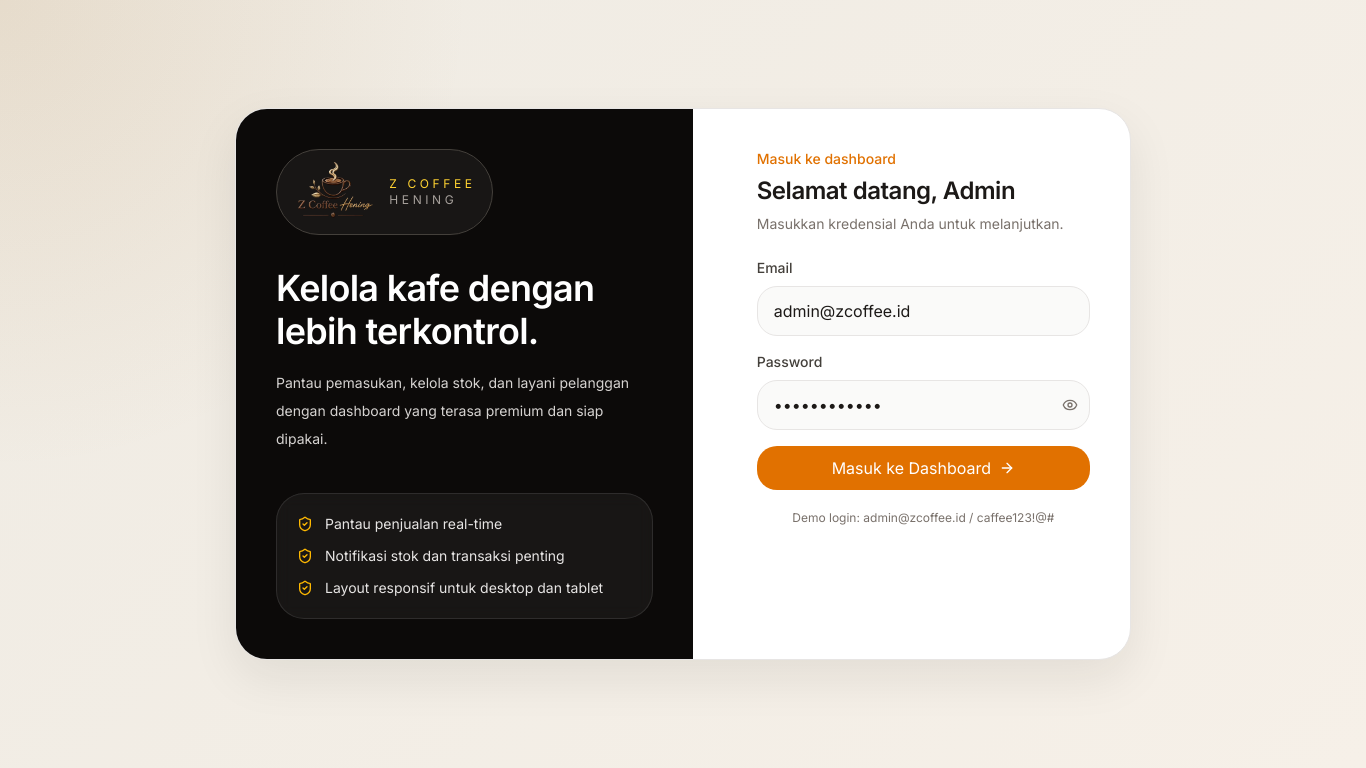
Test: Login Page › shows validation error for invalid email
Replace the text in the field named "Email" with "invalid-email": (923, 311) [757,286,1090,336]
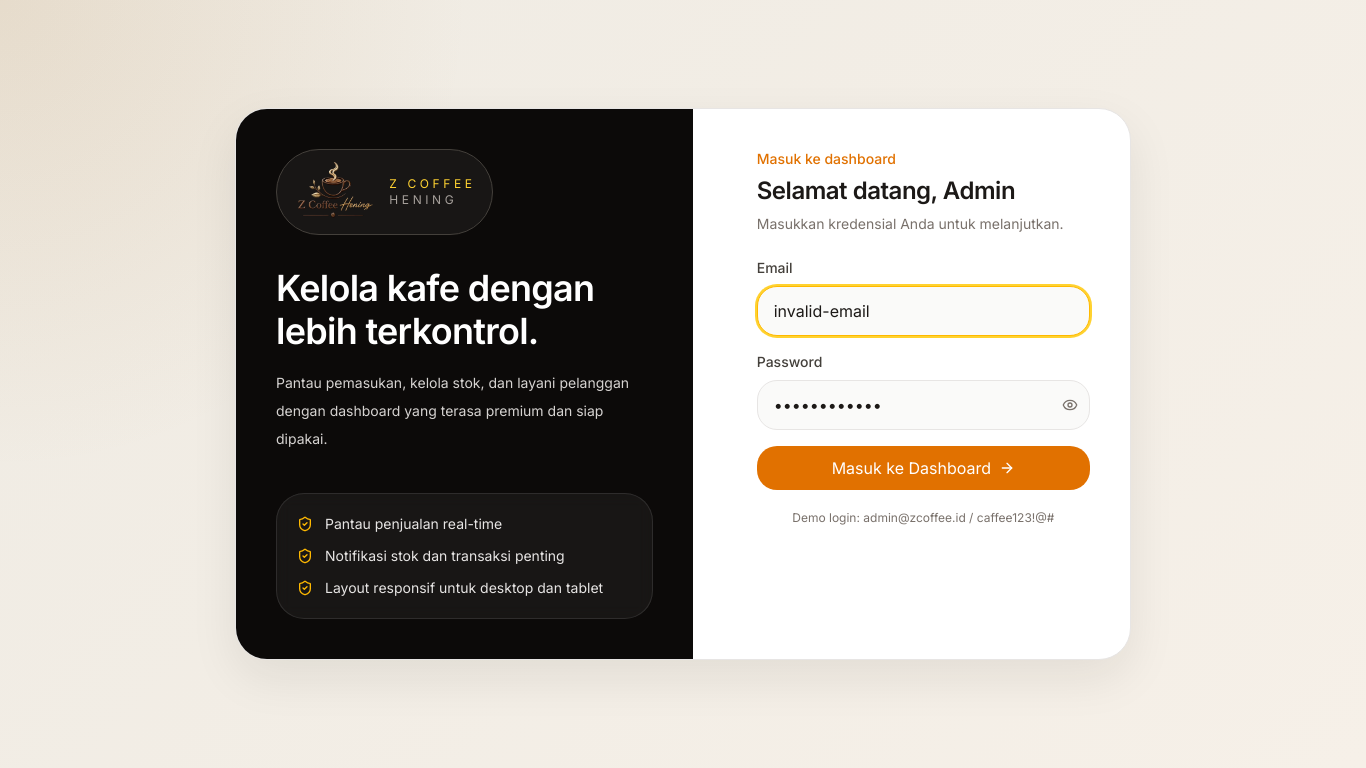
Click the button "Masuk ke Dashboard": (923, 468) [757,446,1090,490]
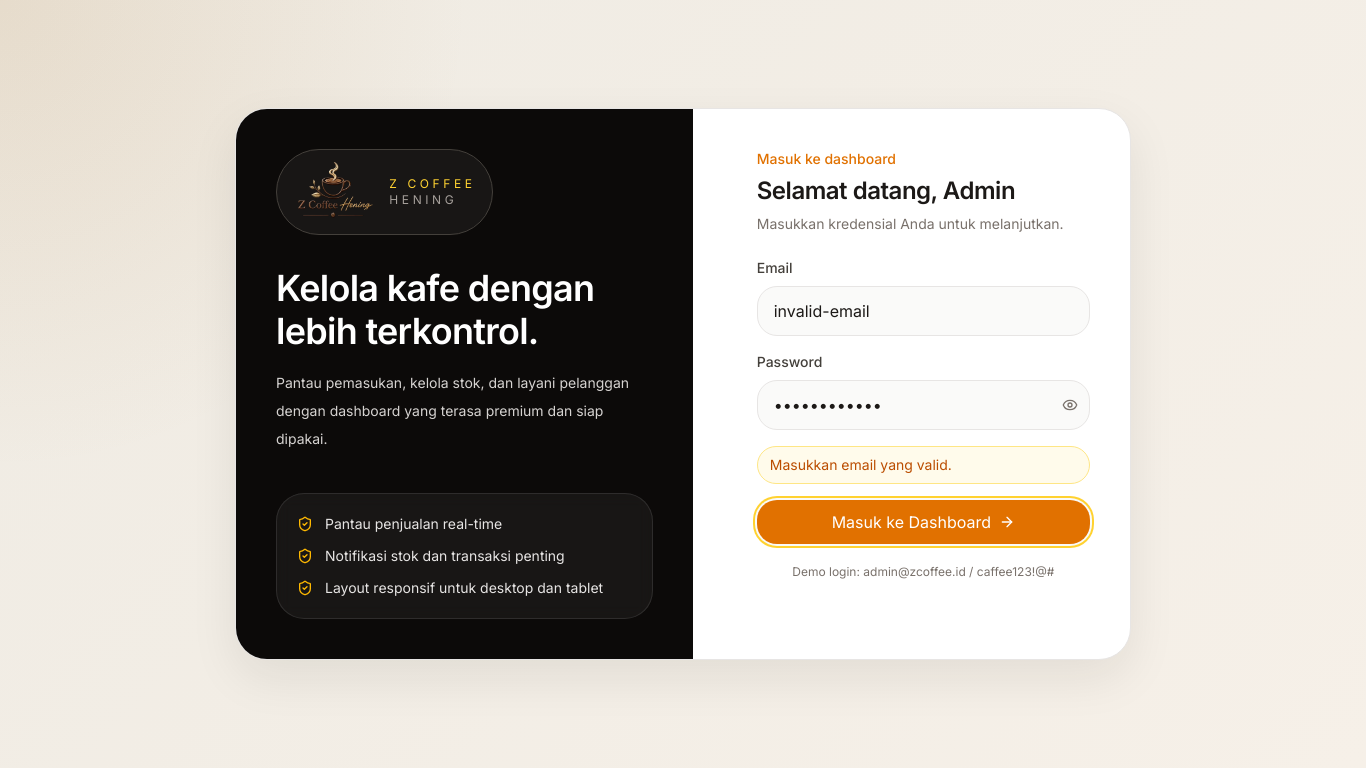
Check: the text "Masukkan email yang valid." is shown, box [757,446,1090,484]
